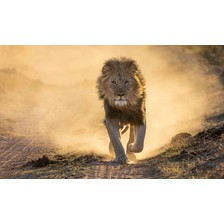lion: (95, 56, 147, 164)
